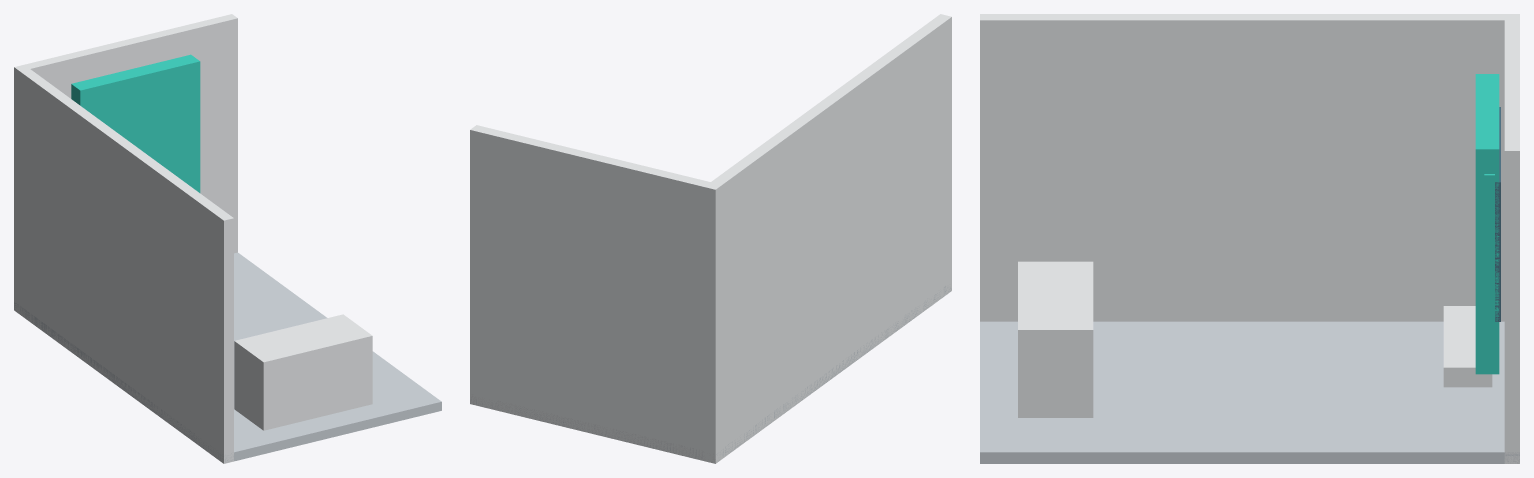
3 views of the same model, side by side, from view 1: azimuth 30°, elevation 25°; view 2: azimuth 150°, elevation 25°; view 3: azimuth 270°, elevation 25° (orthographic). The views are drawn at different scales.
Visible parts, largest first — view 1: Exhibition Booth Concept; view 2: Exhibition Booth Concept; view 3: Exhibition Booth Concept.
Part boxes in pixels (x1,y1,x2,y2): Exhibition Booth Concept: [14, 14, 441, 463]; Exhibition Booth Concept: [470, 14, 951, 463]; Exhibition Booth Concept: [980, 14, 1519, 463].
Size of the model in its own units: 3 by 3.2 by 5.
